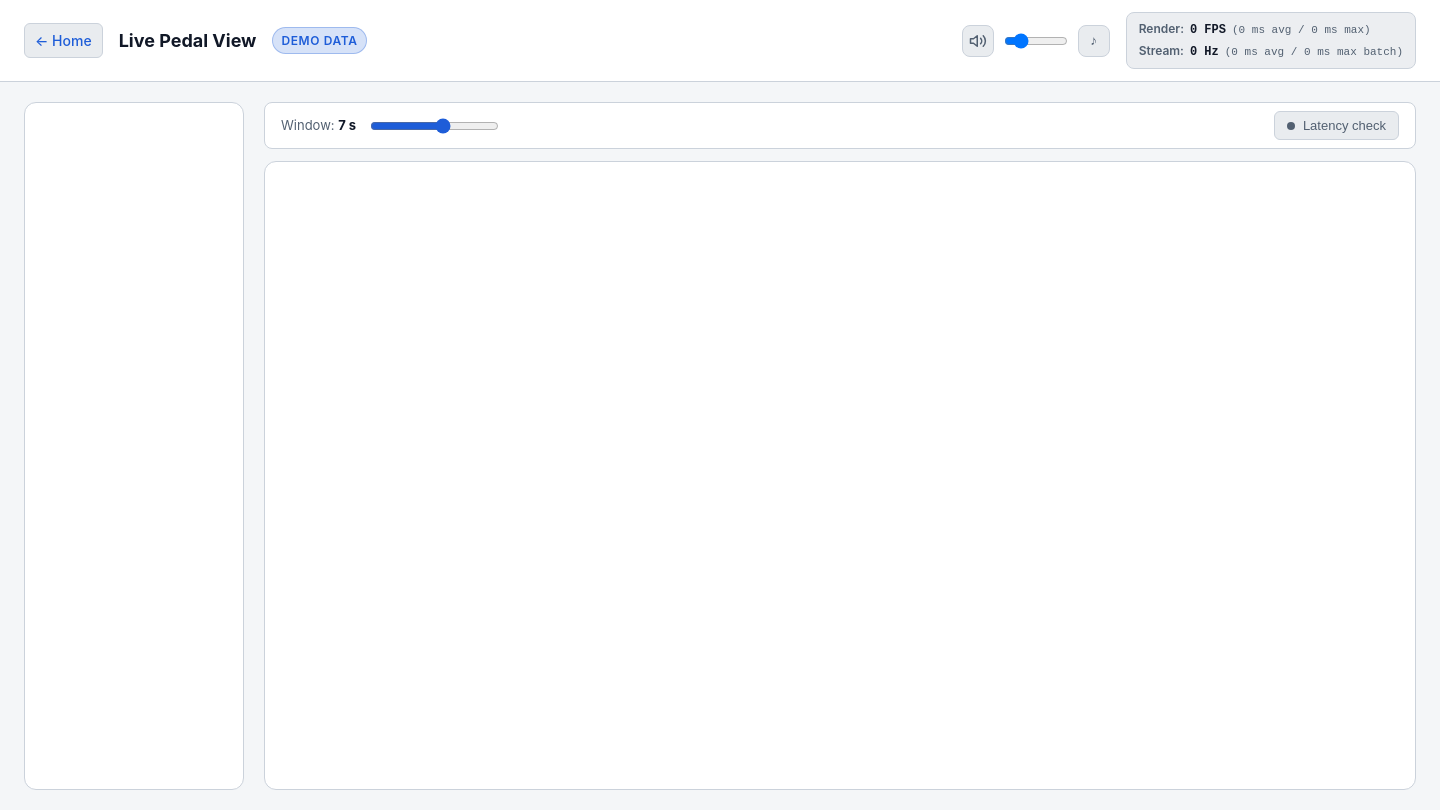
Test: Live page (page.test.ts) › loads window setting, updates on slider input, and saves to settings
The image size is (1440, 810).
Expected: the text "7 s" is shown, [338, 117, 356, 133]
Set the slider named "graph time window" to "4" at (394, 126), box [370, 118, 499, 134]
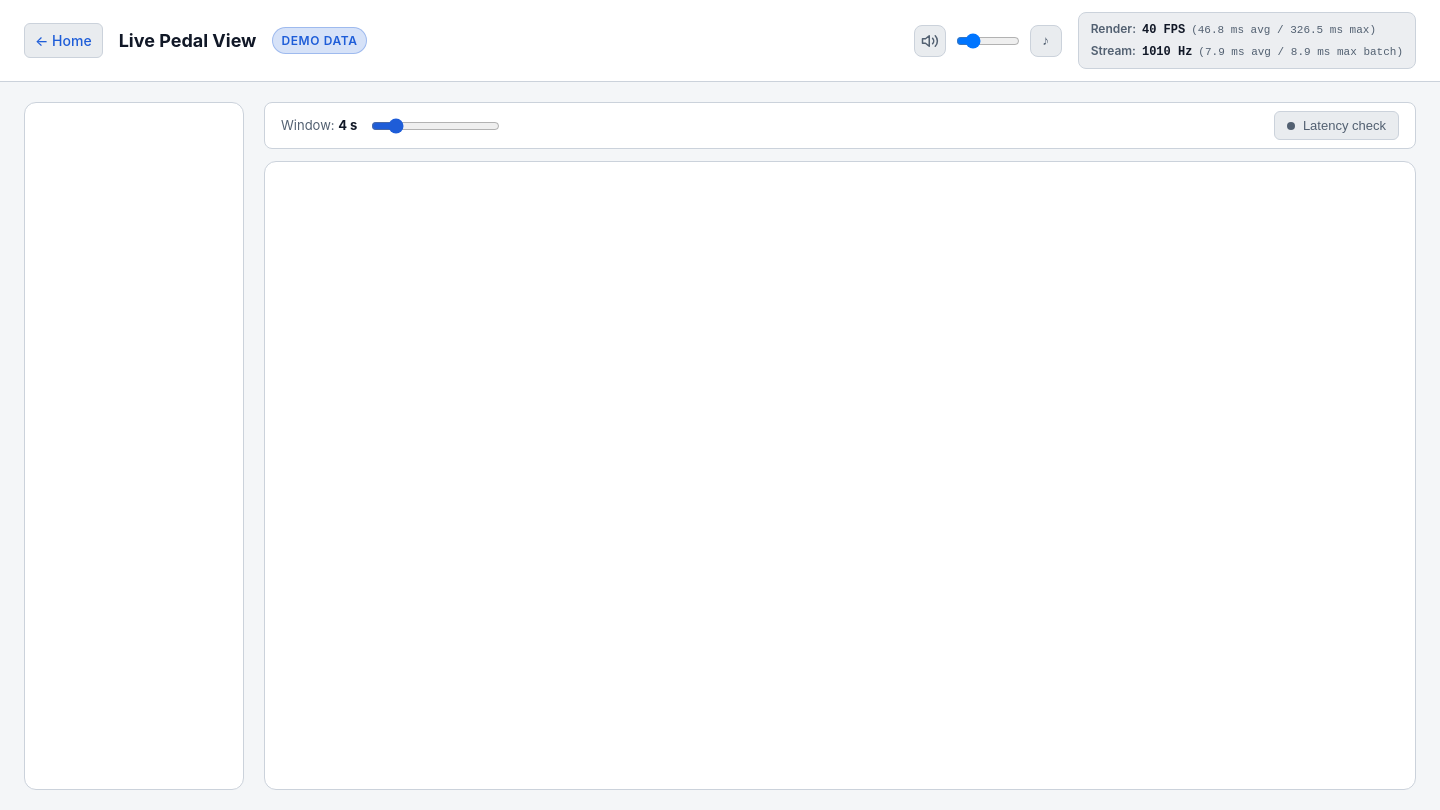
Result: the text "4 s" is shown at [338, 117, 357, 133]
